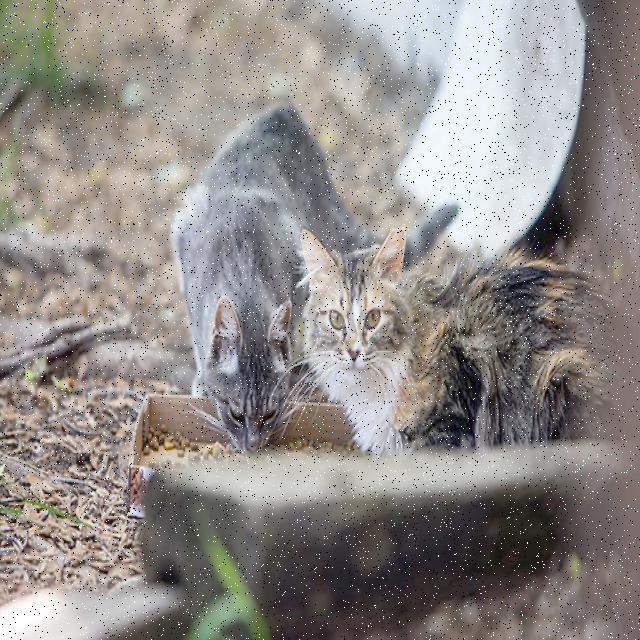cat: (301, 227, 618, 455), (171, 105, 375, 451), (405, 204, 459, 265)
